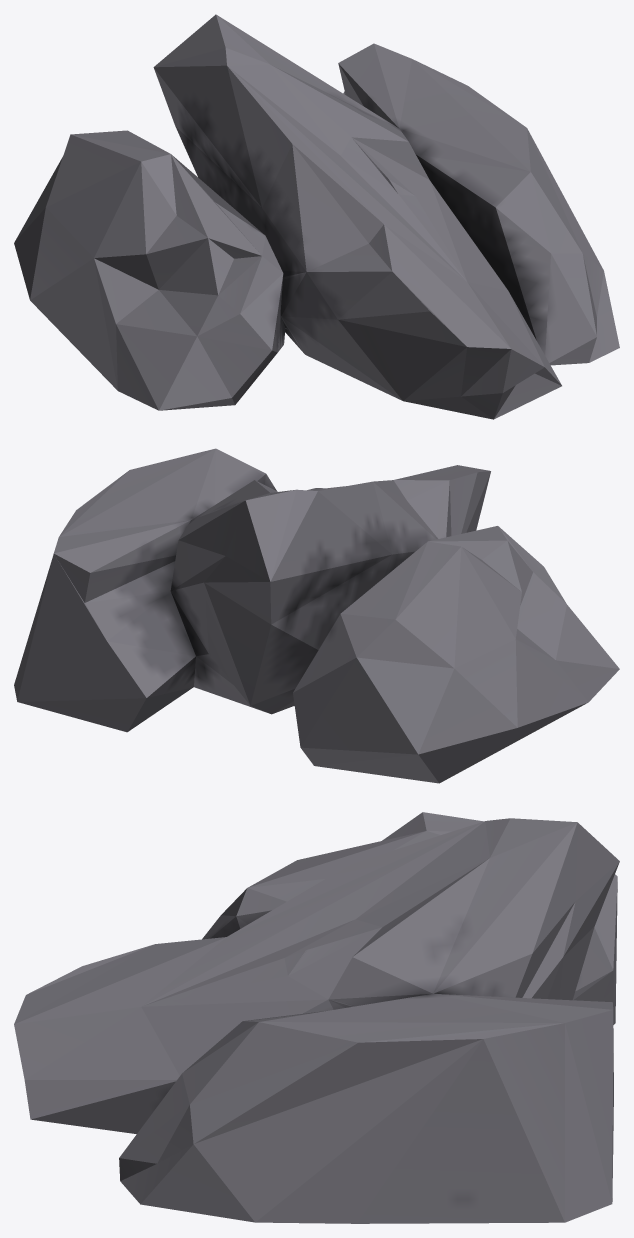
The model's file is SM_MeshyRockCluster.fbx.
3 renders of one model, top to bottom at view 1: azimuth 30°, elevation 25°; view 2: azimuth 150°, elevation 25°; view 3: azimuth 270°, elevation 25°, orthographic. The views are drawn at different scales.
Visible parts, largest first — view 1: SM_MeshyRockCluster; view 2: SM_MeshyRockCluster; view 3: SM_MeshyRockCluster.
Part boxes in pixels (bbox=[...]): SM_MeshyRockCluster: bbox=[14, 14, 619, 419]; SM_MeshyRockCluster: bbox=[14, 448, 619, 783]; SM_MeshyRockCluster: bbox=[14, 812, 619, 1223].
Bounding box in the file's own units: 0.8851 × 0.4532 × 0.8894.
1 material, 1 textured.
